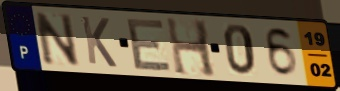0: (221, 22, 257, 77)
6: (262, 26, 300, 79)
E: (125, 17, 174, 72)
H: (164, 15, 220, 79)
K: (79, 14, 119, 70)
N: (32, 10, 82, 67)
